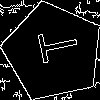T: (28, 26, 81, 67)
